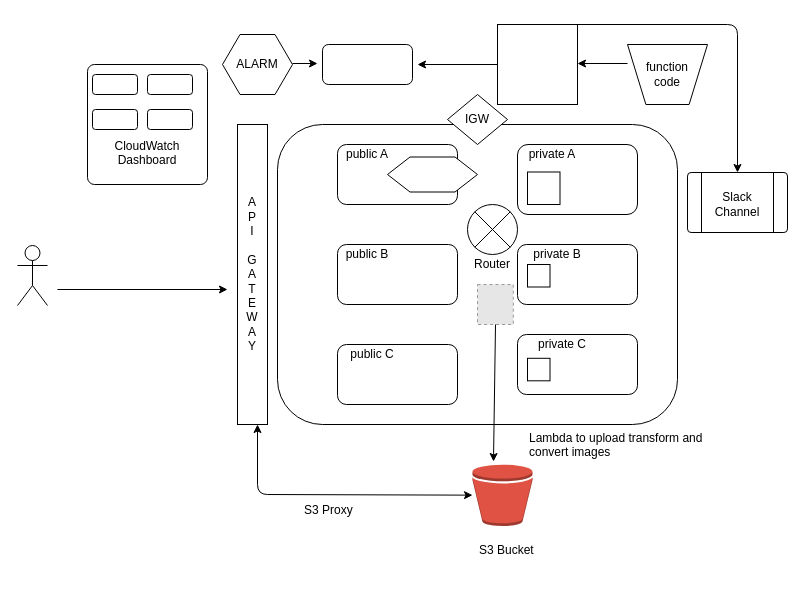
This 805x593 diagram has some shape labels left out. Grey dashed boxes stand in for pictures. The centre of each missing label's shape, as x and y in pixels:
"Actor" belongs at pixel 32 275.
"Lambda function" belongs at pixel 537 64.
"Nat Gateway" belongs at pixel 432 174.
"SNS TOPIC" belongs at pixel 367 64.
